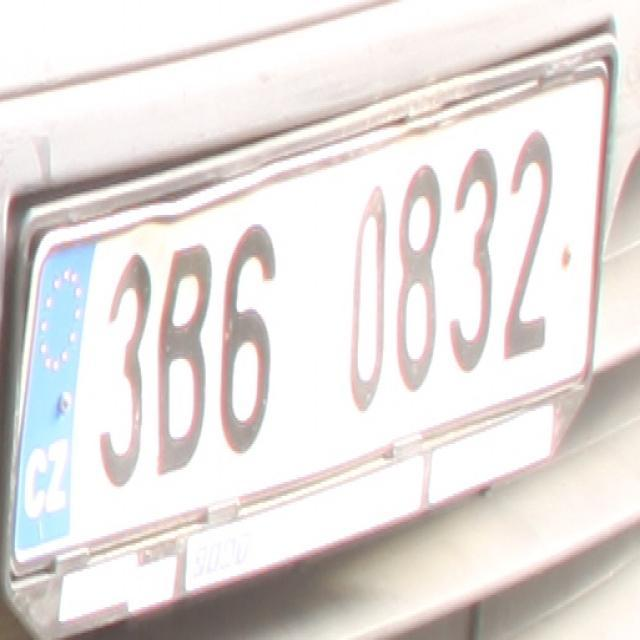0: (346, 177, 390, 420)
2: (505, 118, 553, 357)
3: (98, 255, 152, 489), (449, 144, 499, 378)
6: (216, 215, 276, 451)
8: (396, 156, 442, 390)
B: (158, 240, 208, 480)
